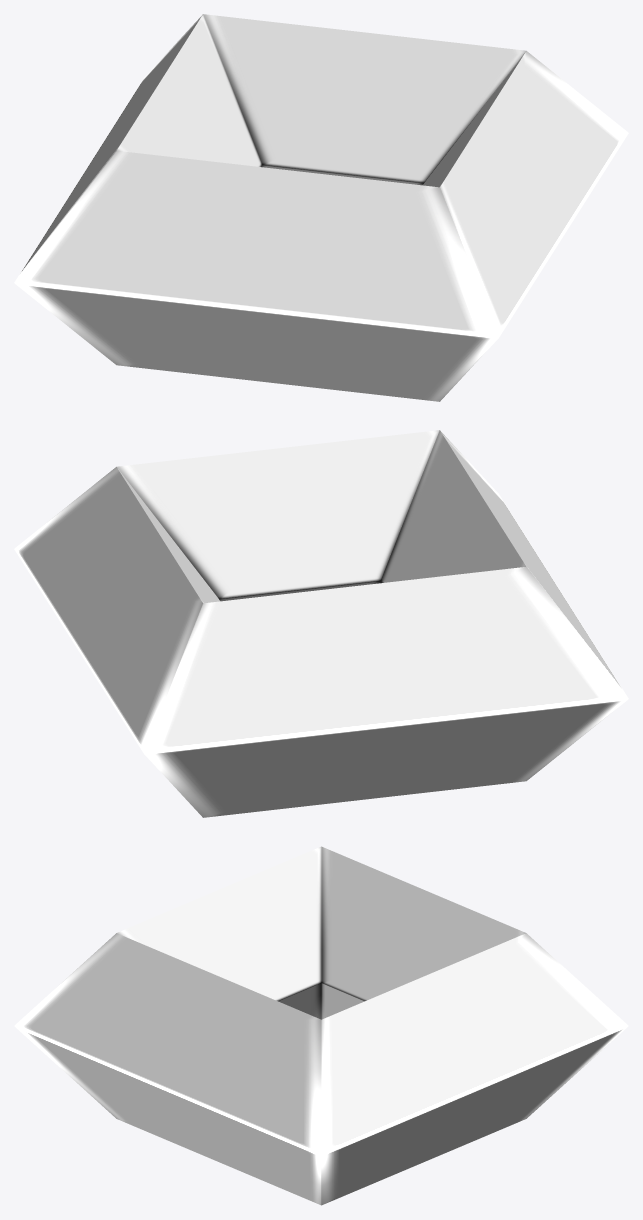
The picture shows the model from 3 angles, top to bottom: view 1: azimuth 30°, elevation 25°; view 2: azimuth 150°, elevation 25°; view 3: azimuth 270°, elevation 25°; orthographic projection. The views are drawn at different scales.
Parts seen in each view (by area): view 1: torus; view 2: torus; view 3: torus.
Part boxes in pixels (left/top/right/bottom): torus: left=14, top=14, right=628, bottom=401; torus: left=14, top=430, right=628, bottom=817; torus: left=14, top=846, right=628, bottom=1205.
Bounding box in the file's own units: 75 × 25 × 75.
